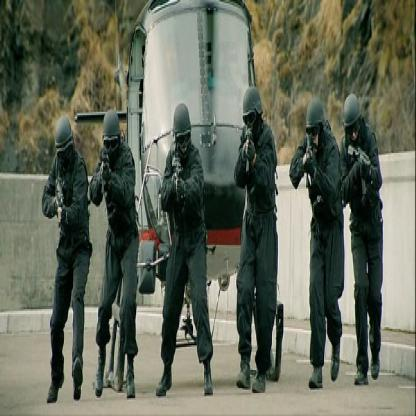Guns: (346, 138, 371, 201), (304, 128, 315, 191), (52, 169, 64, 224), (171, 153, 184, 202), (243, 123, 254, 176), (98, 148, 109, 194)
